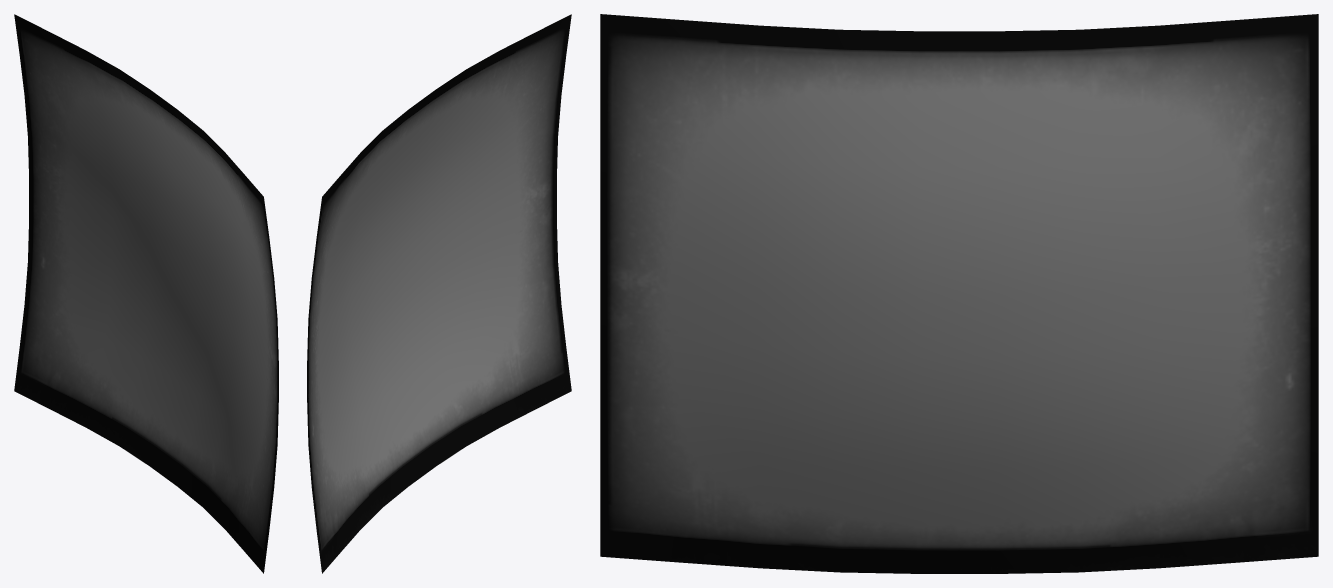
File: Screen.obj
3 views of the same model, side by side, from view 1: azimuth 30°, elevation 25°; view 2: azimuth 150°, elevation 25°; view 3: azimuth 270°, elevation 25° (orthographic). The views are drawn at different scales.
Parts seen in each view (by area): view 1: Screen2_TV_Cylinder.001; view 2: Screen2_TV_Cylinder.001; view 3: Screen2_TV_Cylinder.001.
Part boxes in pixels (x1,y1,x2,y2): Screen2_TV_Cylinder.001: [14, 14, 278, 573]; Screen2_TV_Cylinder.001: [307, 14, 571, 573]; Screen2_TV_Cylinder.001: [600, 14, 1318, 573].
Bounding box in the file's own units: 0.2404 × 1.52 × 1.82.
1 material, 1 textured.
